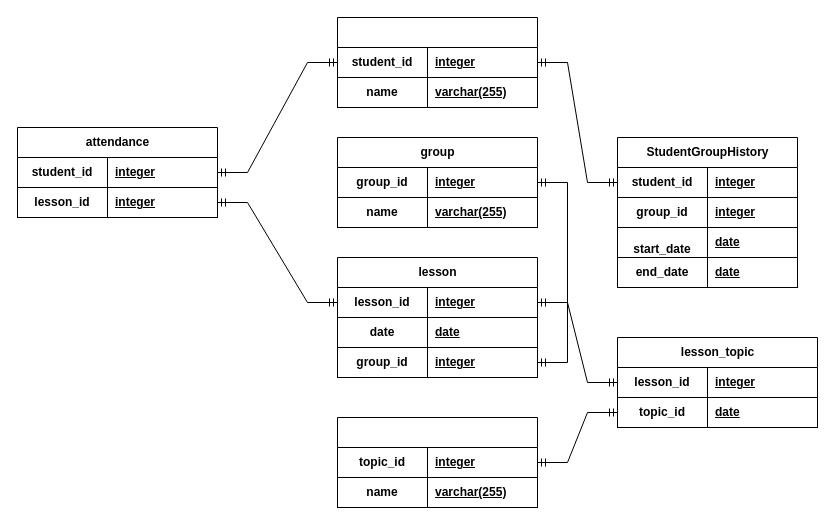
This 835x525 diagram has some shape labels left out. Each missing label, with the box of its shape:
students: (336, 16, 538, 108)
topics: (336, 416, 538, 508)
